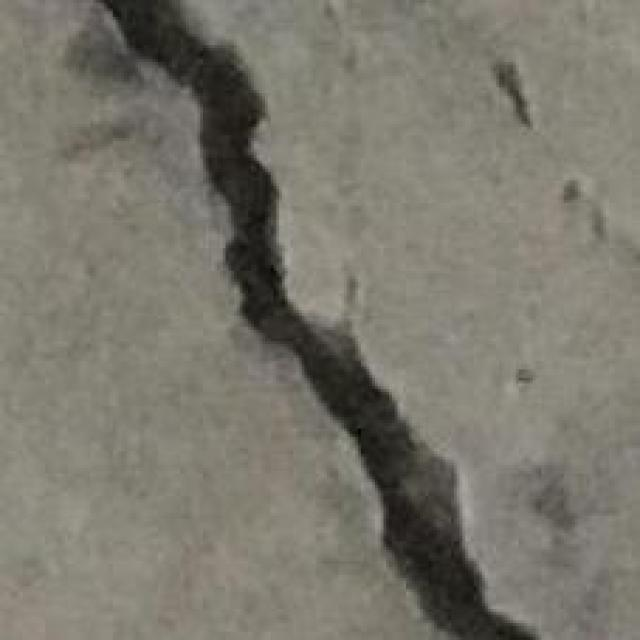Crack: (93, 0, 536, 637)
